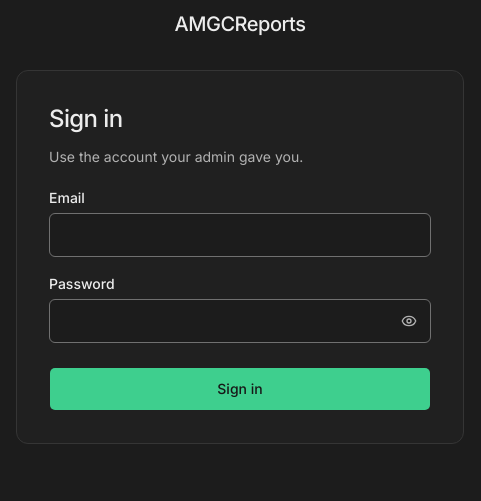
Scenario: login page › shows the server's 403 message: This account is closed.
The width and height of the screenshot is (481, 501).
Type "a@b.c" into the field labelled "Email" at (240, 235), box [49,213,431,257]
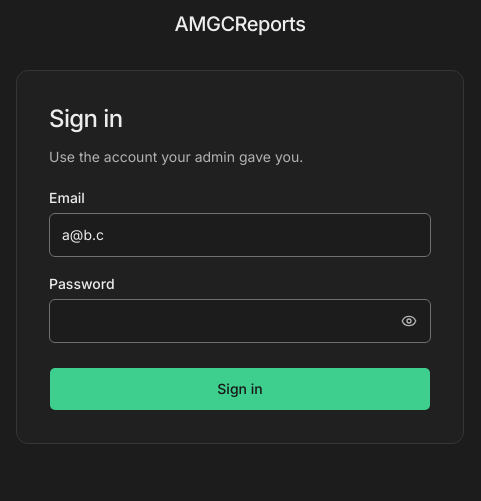
Type "x" into the password field labelled "Password" at (240, 321), box [49,299,431,343]
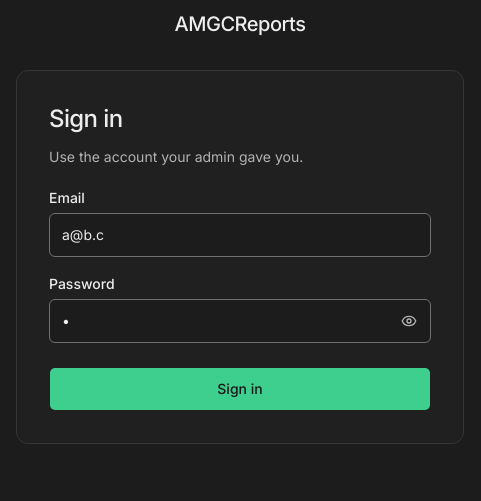
Click the button "Sign in" at (240, 389), box [49,367,431,411]
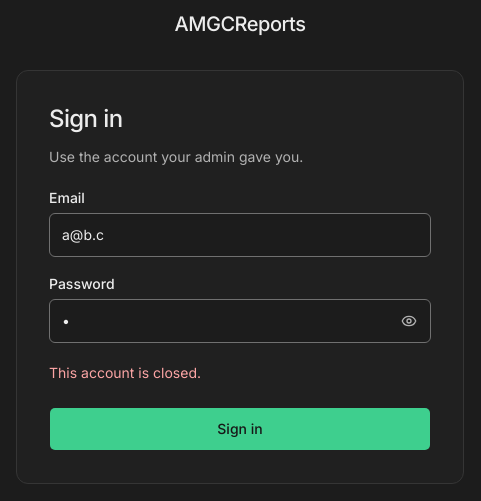
Check: the text "This account is closed." is shown, box [49,364,201,381]
